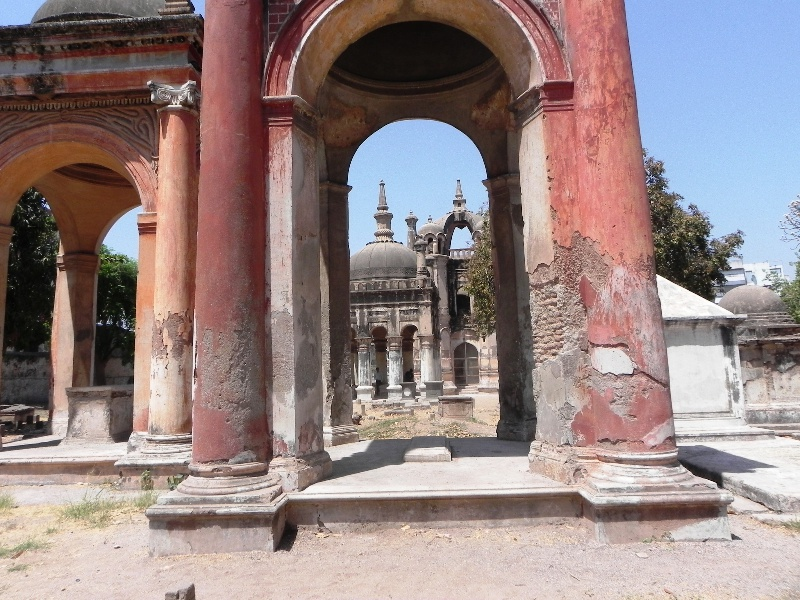Exposed Bricks: (528, 281, 564, 366)
Spalling: (588, 363, 657, 416), (555, 228, 614, 281), (155, 311, 188, 363), (207, 454, 235, 476)
